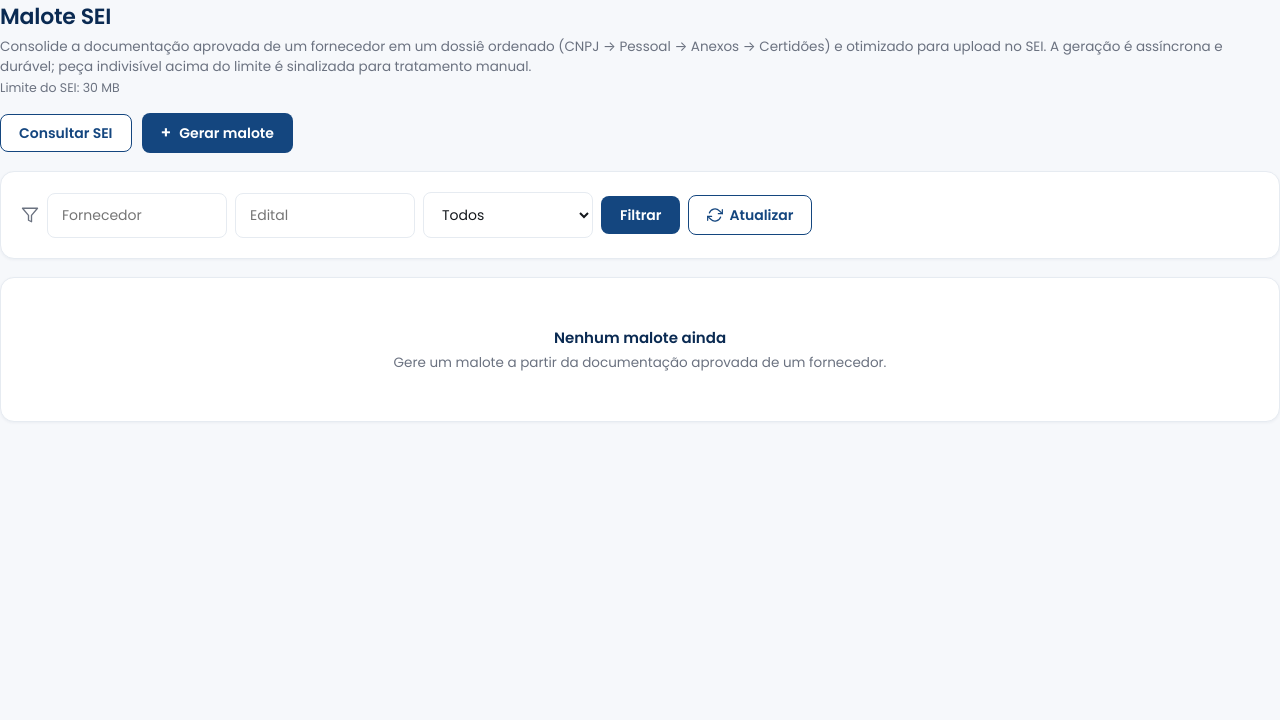
Test: GerarMalote — Painel Admin do malote SEI (UC010) › gera um malote pelo modal enviando fornecedor/edital + peças na ordem legal
The width and height of the screenshot is (1280, 720).
Expected: the element with test id "vazio" is shown, [394, 327, 886, 372]
Abre o modal de geração.
Click the button with test id "novo-malote".
click(217, 133)  # box [142, 113, 293, 153]
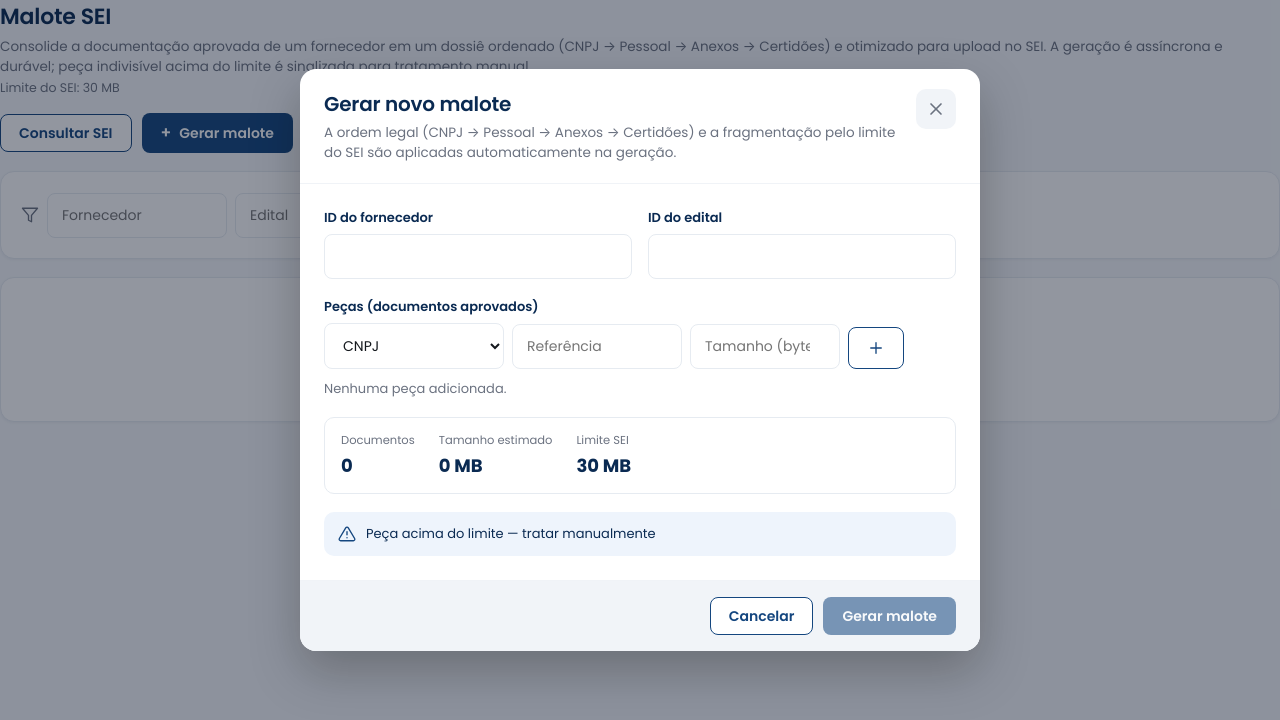
Now the dialog with test id "modal-malote" is shown, box [300, 69, 980, 651]
Type "f1" into the field with test id "campo-fornecedor".
click(478, 256); type("f1")  # box [324, 234, 632, 279]
Type "e1" into the field with test id "campo-edital".
click(802, 256); type("e1")  # box [648, 234, 956, 279]
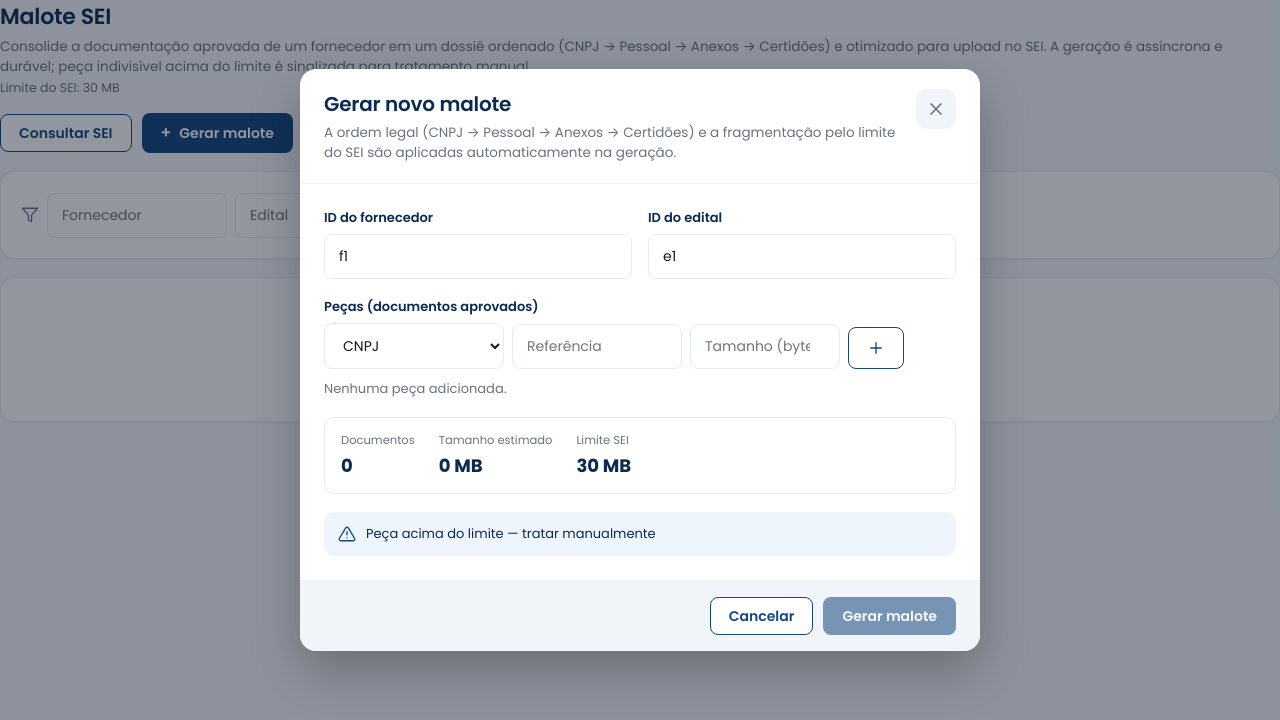
Type "doc1" into the field with test id "peca-ref".
click(597, 346); type("doc1")  # box [512, 324, 682, 369]
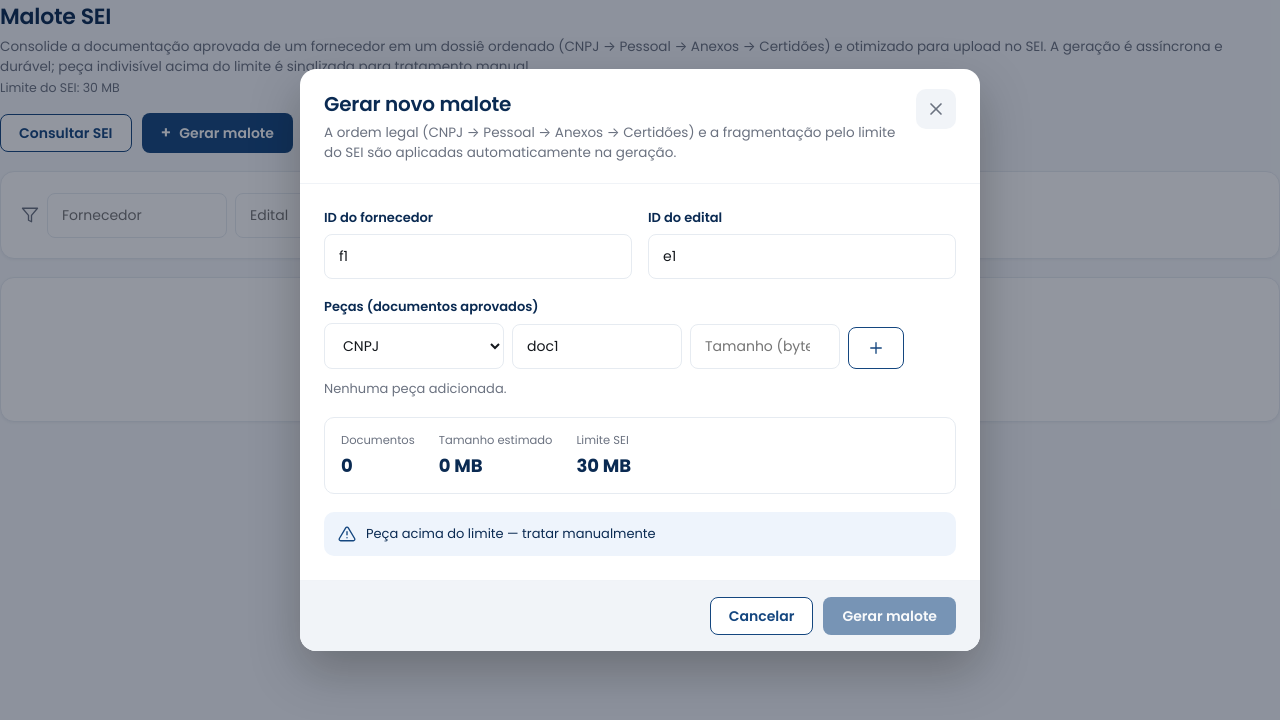
Type "100" into the number field with test id "peca-tamanho".
click(765, 346); type("100")  # box [690, 324, 840, 369]
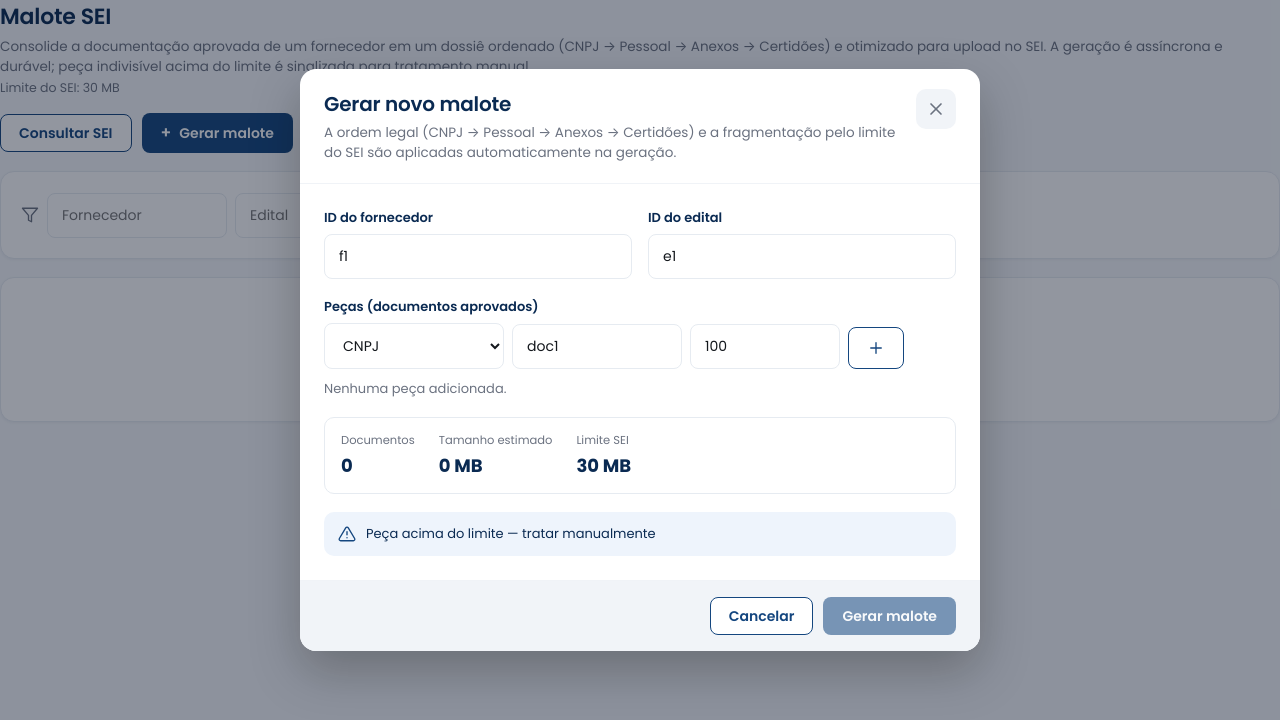
Click the button with test id "add-peca".
click(876, 348)  # box [848, 327, 904, 369]
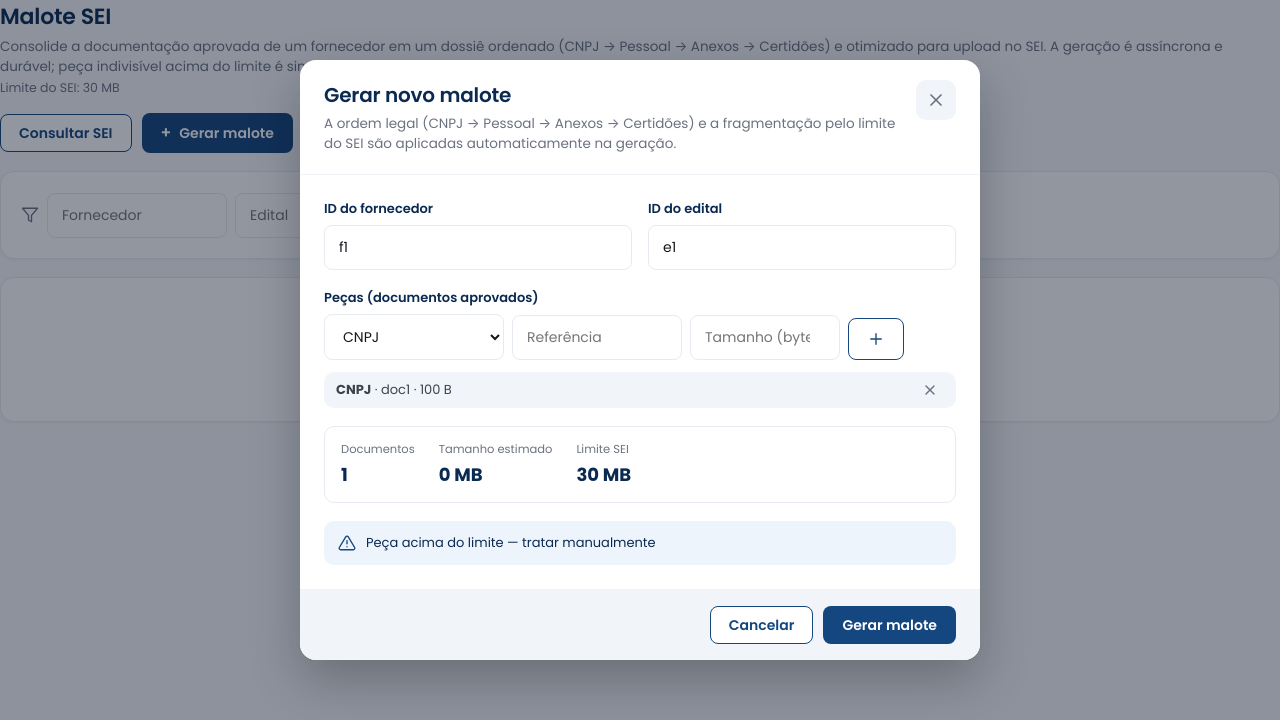
Now the list item with test id "item-peca" is shown, box [324, 372, 956, 408]
Submit the form with test id "form-malote", box [300, 175, 980, 660]
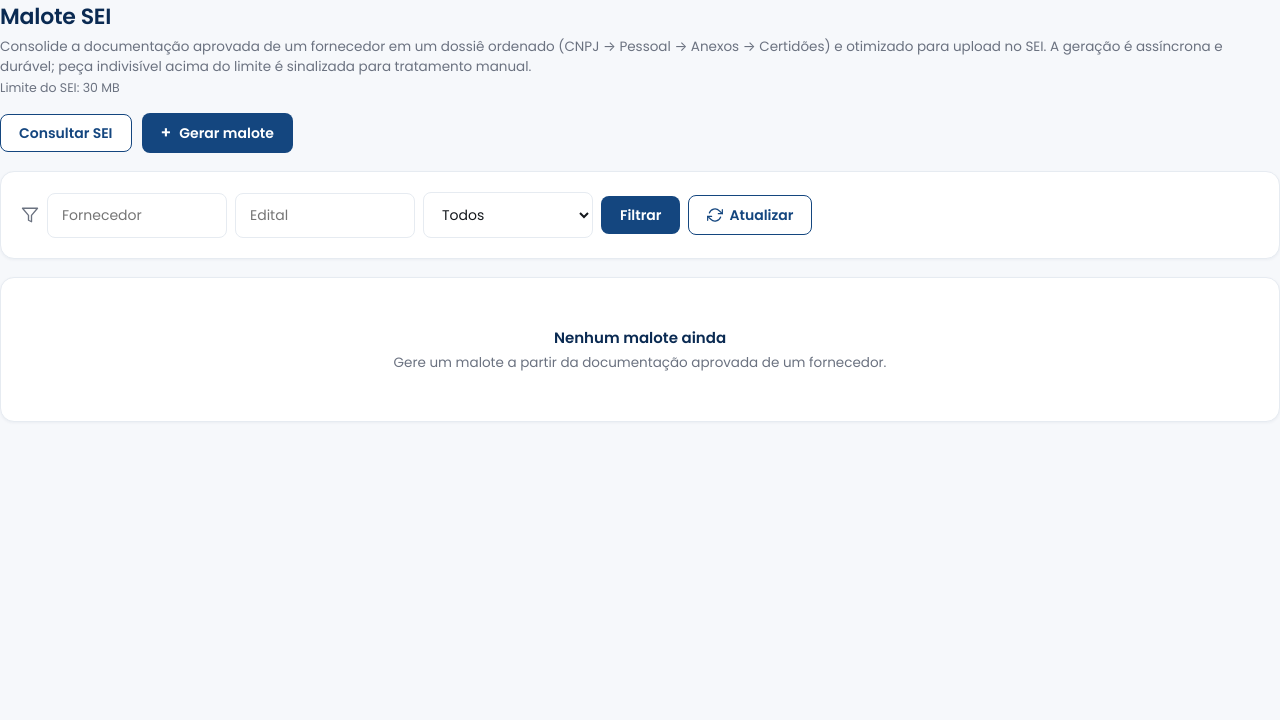
Now the dialog with test id "modal-malote" is gone
